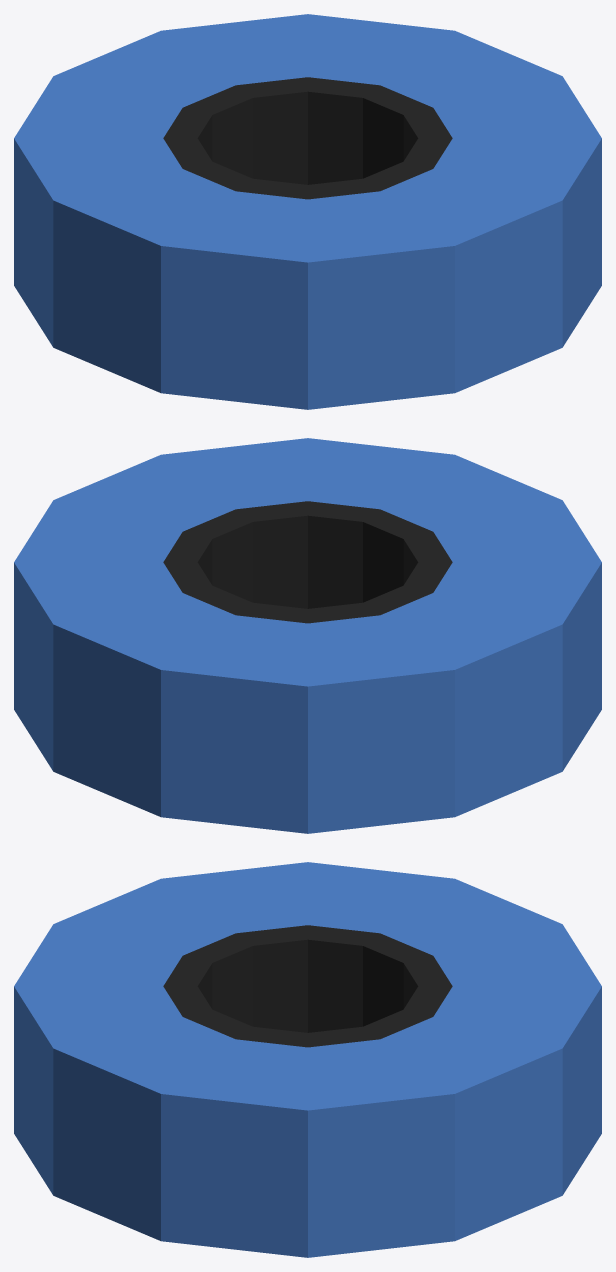
Rendered from Tape_mat.fbx.
The picture shows the model from 3 angles, top to bottom: view 1: azimuth 30°, elevation 25°; view 2: azimuth 150°, elevation 25°; view 3: azimuth 270°, elevation 25°; orthographic projection.
Parts seen in each view (by area): view 1: Tape_mat; view 2: Tape_mat; view 3: Tape_mat.
Boxes of the visible parts, x1,y1,x2,y2 form: Tape_mat: (14, 14, 601, 409); Tape_mat: (14, 438, 601, 833); Tape_mat: (14, 862, 601, 1257).
Bounding box in the file's own units: 9.16 × 2.53 × 9.16.
